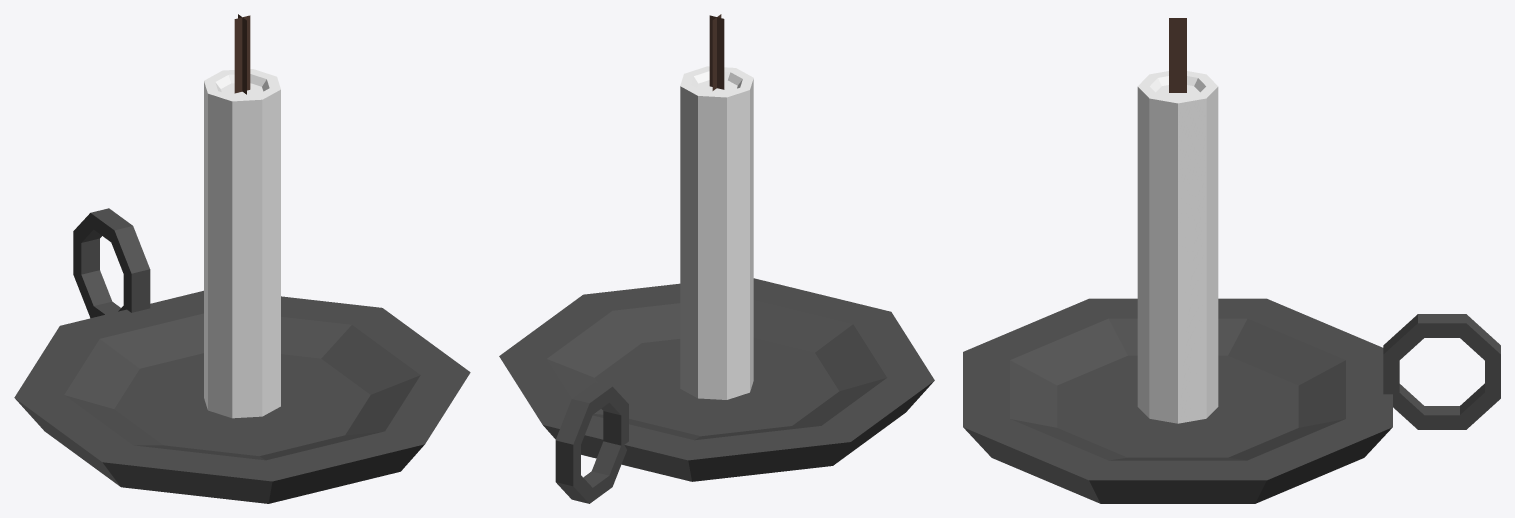
The model's file is candle_tin.glb.
The picture shows the model from 3 angles, left to right: view 1: azimuth 30°, elevation 25°; view 2: azimuth 150°, elevation 25°; view 3: azimuth 270°, elevation 25°; orthographic projection. The views are drawn at different scales.
Parts seen in each view (by area): view 1: Candle; view 2: Candle; view 3: Candle.
Boxes of the visible parts, x1=… form: Candle: x1=14, y1=14, x2=470, y2=503; Candle: x1=499, y1=14, x2=934, y2=503; Candle: x1=963, y1=18, x2=1500, y2=503.
Size of the model in its own units: 0.3453 by 0.361 by 0.432.
Materials: 1 (1 with a texture image).
